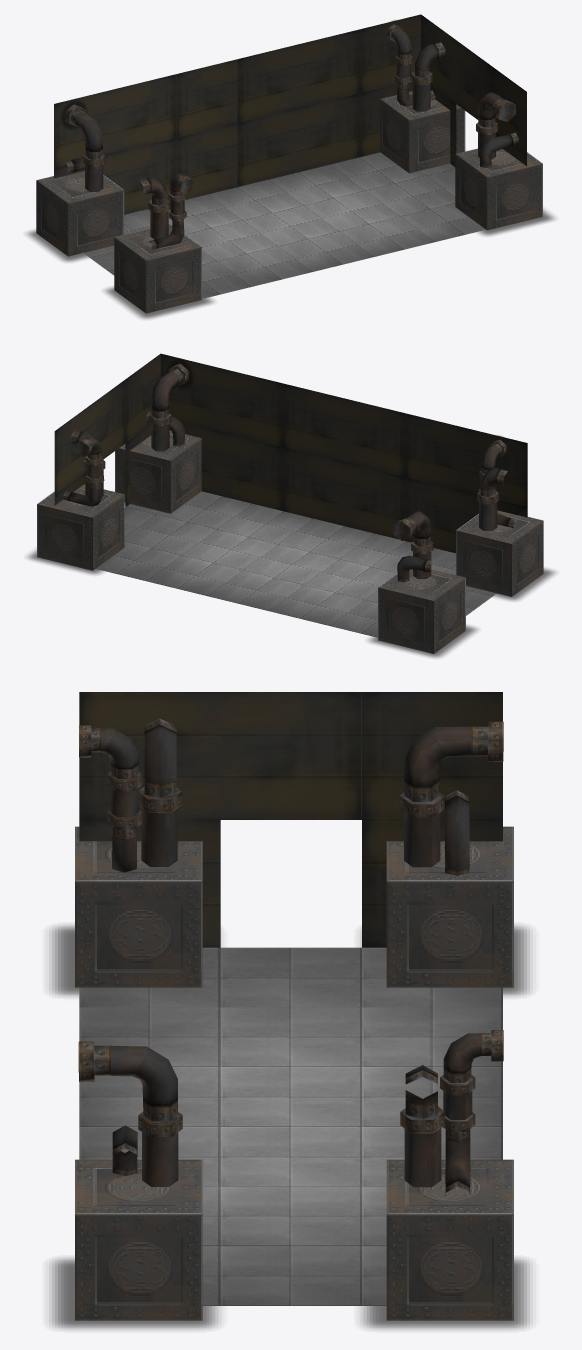
File: room_4.glb
3 views of the same model, one above another, from view 1: azimuth 30°, elevation 25°; view 2: azimuth 150°, elevation 25°; view 3: azimuth 270°, elevation 25° (orthographic). The views are drawn at different scales.
Visible parts, largest first — view 1: wall, floor, CBMetalBoxSides (×4), CBMetalBoxTop (×4), CBMetalBoxShadow (×3), LargePipe1Elbow2 (×2), LargeStraightPipe1 (×3), LargePipe1Elbow1 (×2), SmallPipe1Elbow1 (×2), SmallPipe1Elbow2; view 2: wall, floor, CBMetalBoxSides (×4), CBMetalBoxTop (×4), LargePipe1Elbow2 (×2), SmallPipe1Elbow1 (×3), CBMetalBoxShadow (×2), LargeStraightPipe1 (×2), LargePipe1Elbow1, SmallPipe1Elbow2; view 3: floor, CBMetalBoxSides (×4), wall, CBMetalBoxTop (×4), CBMetalBoxShadow (×4), LargeStraightPipe1 (×4), LargePipe1Elbow2 (×2), SmallPipe1Elbow1 (×4), LargePipe1Elbow1 (×2), SmallPipe1Elbow2 (×2).
Boxes of the visible parts, x1=… form: wall: x1=54, y1=14, x2=526, y2=214; floor: x1=83, y1=152, x2=485, y2=298; CBMetalBoxSides (×4): x1=36, y1=99, x2=542, y2=313; CBMetalBoxTop (×4): x1=36, y1=91, x2=542, y2=260; CBMetalBoxShadow (×3): x1=27, y1=209, x2=554, y2=318; LargePipe1Elbow2 (×2): x1=71, y1=92, x2=503, y2=159; LargeStraightPipe1 (×3): x1=85, y1=83, x2=430, y2=239; LargePipe1Elbow1 (×2): x1=136, y1=42, x2=445, y2=205; SmallPipe1Elbow1 (×2): x1=148, y1=132, x2=518, y2=249; SmallPipe1Elbow2: x1=391, y1=28, x2=411, y2=59; wall: x1=54, y1=353, x2=527, y2=553; floor: x1=96, y1=491, x2=496, y2=637; CBMetalBoxSides (×4): x1=37, y1=438, x2=543, y2=653; CBMetalBoxTop (×4): x1=37, y1=430, x2=543, y2=600; LargePipe1Elbow2 (×2): x1=151, y1=369, x2=430, y2=546; SmallPipe1Elbow1 (×3): x1=63, y1=411, x2=433, y2=582; CBMetalBoxShadow (×2): x1=369, y1=568, x2=555, y2=657; LargeStraightPipe1 (×2): x1=151, y1=423, x2=497, y2=530; LargePipe1Elbow1: x1=480, y1=468, x2=507, y2=496; SmallPipe1Elbow2: x1=481, y1=443, x2=502, y2=474; floor: x1=79, y1=947, x2=502, y2=1305; CBMetalBoxSides (×4): x1=75, y1=881, x2=513, y2=1320; wall: x1=79, y1=692, x2=502, y2=947; CBMetalBoxTop (×4): x1=75, y1=826, x2=513, y2=1214; CBMetalBoxShadow (×4): x1=49, y1=925, x2=529, y2=1329; LargeStraightPipe1 (×4): x1=141, y1=808, x2=441, y2=1187; LargePipe1Elbow2 (×2): x1=93, y1=726, x2=488, y2=1121; SmallPipe1Elbow1 (×4): x1=112, y1=790, x2=470, y2=1195; LargePipe1Elbow1 (×2): x1=144, y1=718, x2=437, y2=1118; SmallPipe1Elbow2 (×2): x1=91, y1=728, x2=491, y2=1082.
Size of the model in its own units: 105 by 31.44 by 54.05.
10 materials, 10 textured.
